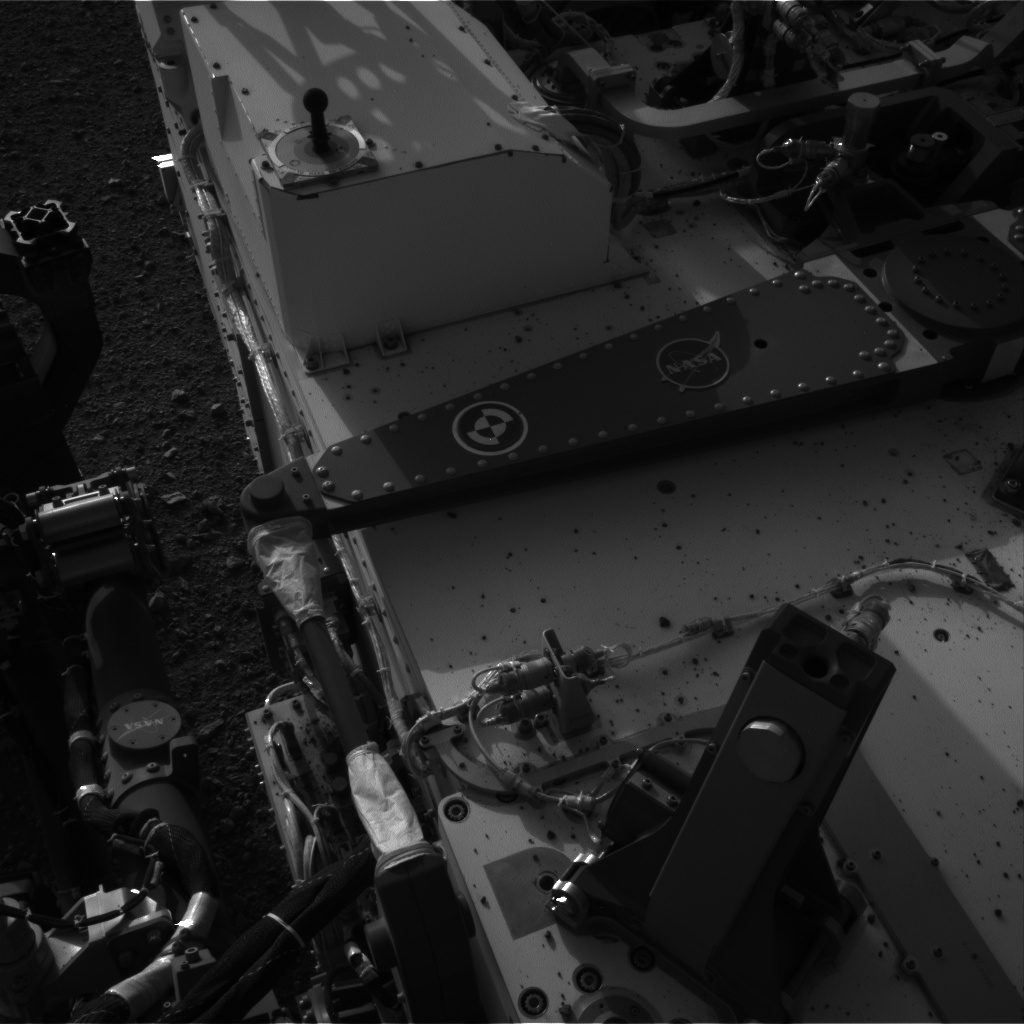soil: (29, 14, 99, 33)
